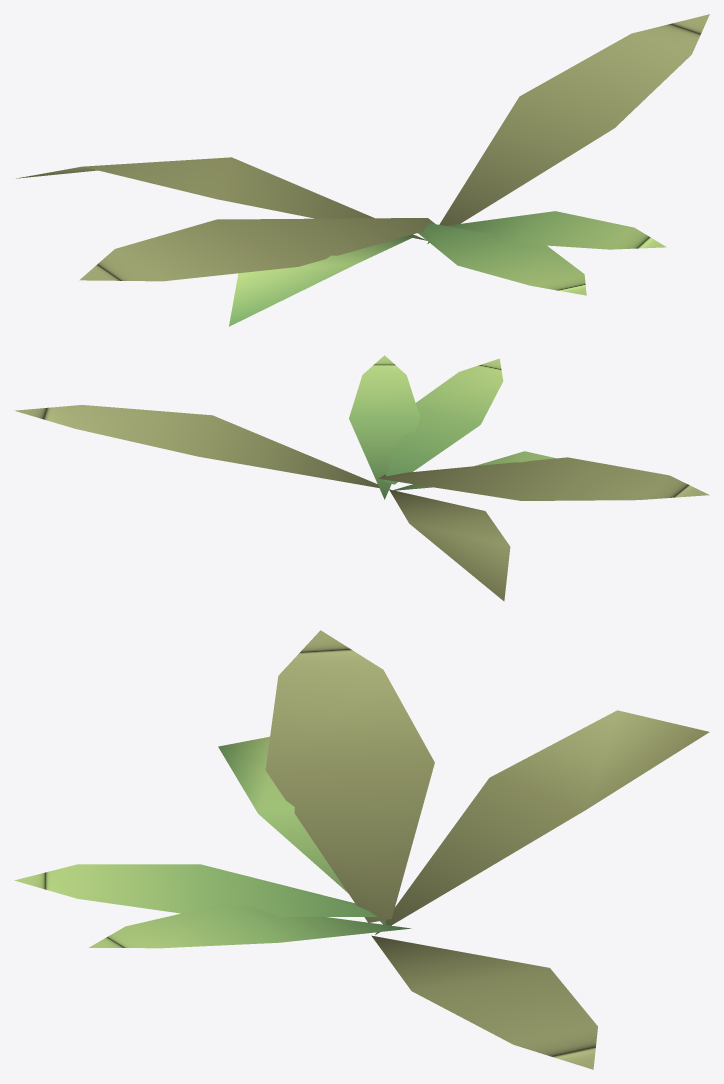
The model's file is DandelionRosette_LOD3.glb.
3 views of the same model, one above another, from view 1: azimuth 30°, elevation 25°; view 2: azimuth 150°, elevation 25°; view 3: azimuth 270°, elevation 25° (orthographic). The views are drawn at different scales.
Parts seen in each view (by area): view 1: DandelionRosette_LOD3; view 2: DandelionRosette_LOD3; view 3: DandelionRosette_LOD3.
Part boxes in pixels (x1=…): DandelionRosette_LOD3: x1=16, y1=14, x2=709, y2=326; DandelionRosette_LOD3: x1=14, y1=355, x2=709, y2=601; DandelionRosette_LOD3: x1=14, y1=630, x2=709, y2=1069.
Bounding box in the file's own units: 0.3364 × 0.0316 × 0.2226.
